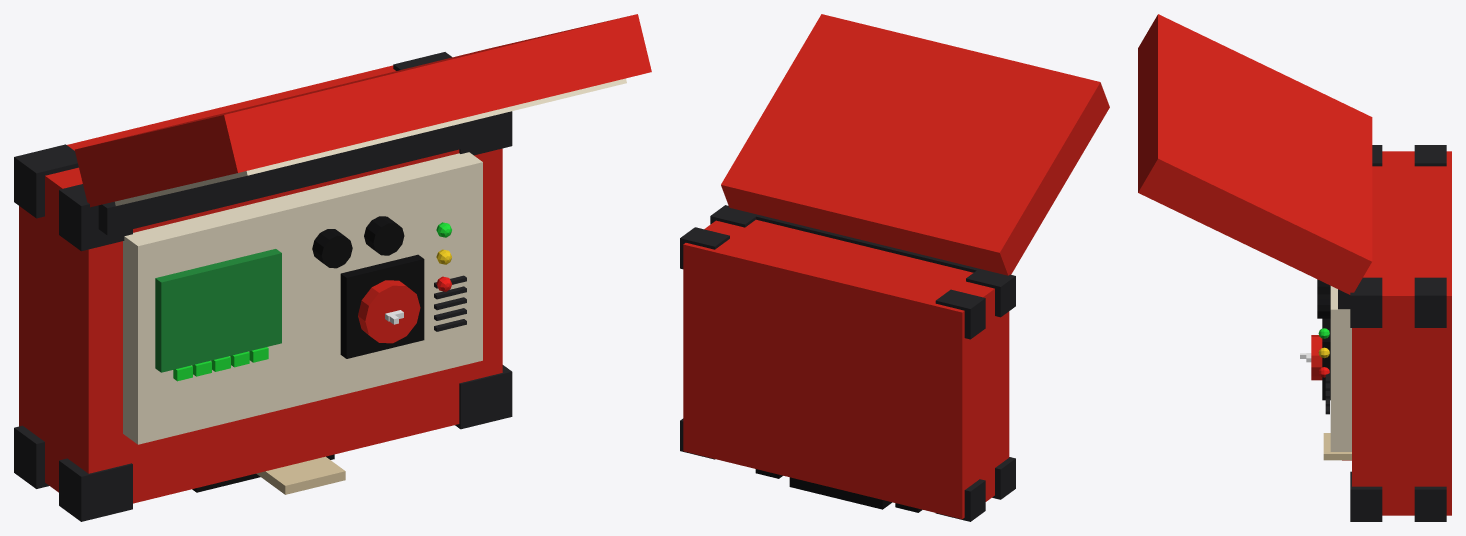
The model's file is MiniVan_Defib_Suitcase.obj.
3 views of the same model, side by side, from view 1: azimuth 30°, elevation 25°; view 2: azimuth 150°, elevation 25°; view 3: azimuth 270°, elevation 25° (orthographic). The views are drawn at different scales.
Visible parts, largest first — view 1: Defib_Suitcase; view 2: Defib_Suitcase; view 3: Defib_Suitcase.
Boxes of the visible parts, x1,y1,x2,y2 form: Defib_Suitcase: [14, 14, 651, 521]; Defib_Suitcase: [680, 14, 1109, 521]; Defib_Suitcase: [1138, 14, 1451, 521].
Bounding box in the file's own units: 0.5 × 0.5901 × 0.4402.
